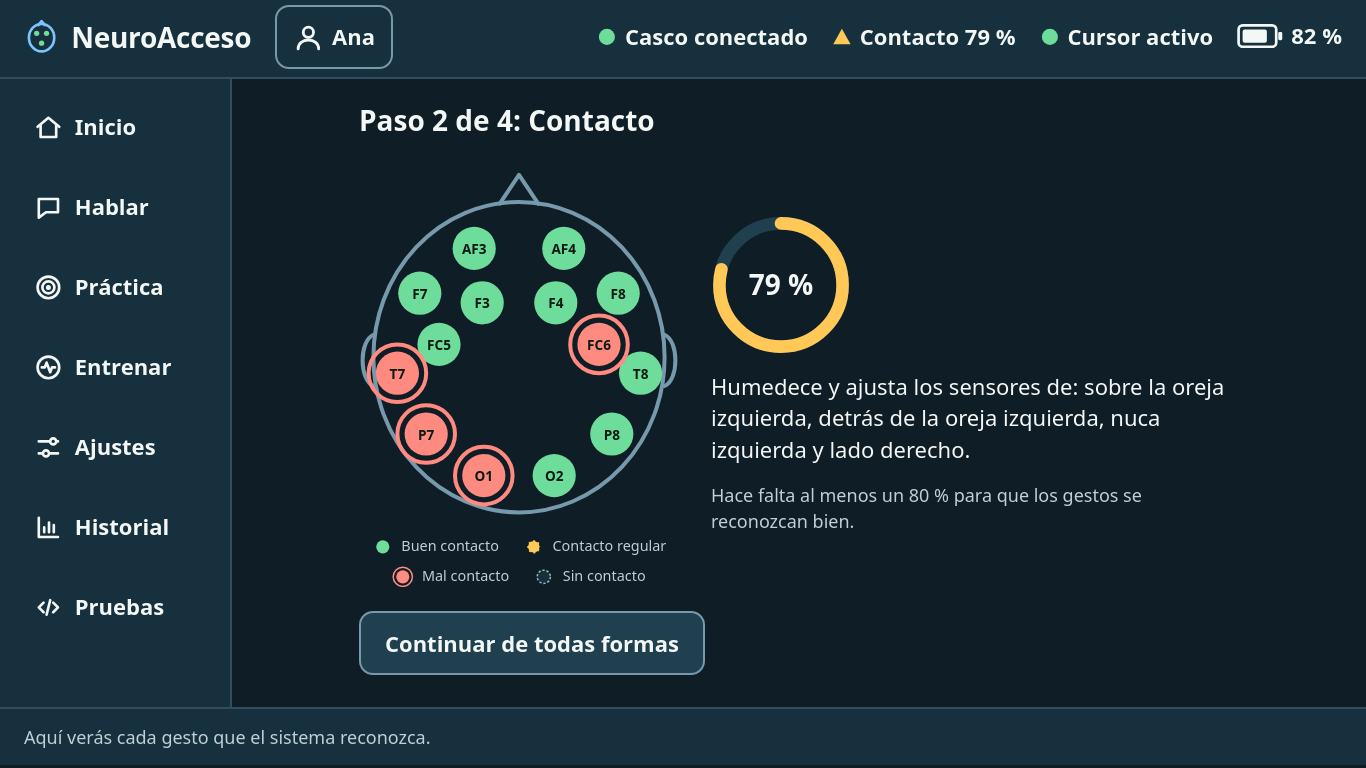
cada paso › contacto: con mal contacto dice qué zonas mojar y no avanza solo
(page scrolled)
expect the text "Humedece y ajusta los sensores de: sobre la oreja izquierda" is shown: met, box [711,370,1224,464]
expect the heading shows "Contacto": met, box [528,101,655,139]
Click the button "Continuar de todas formas": {"x": 532, "y": 643} [359,611,705,675]
(page scrolled)
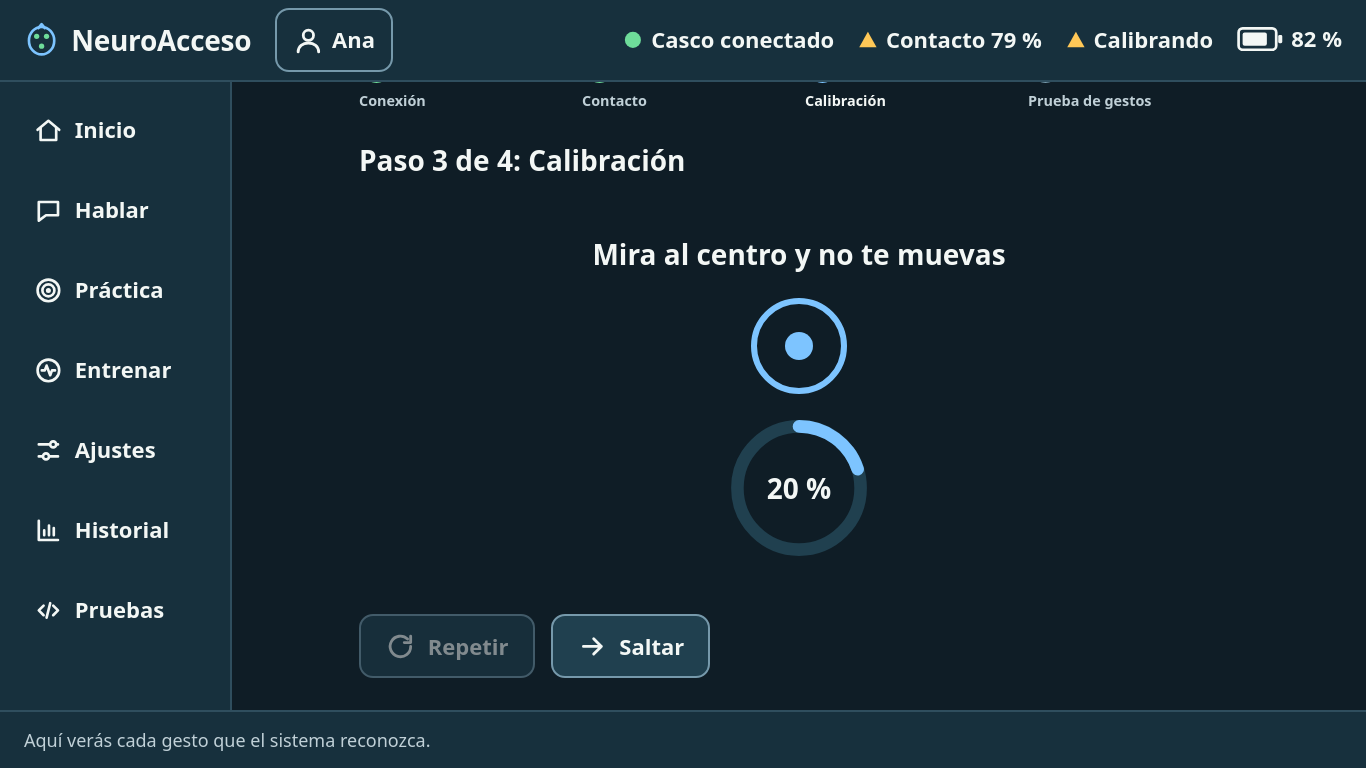
expect the heading shows "Calibración": met, box [528,141,686,179]
